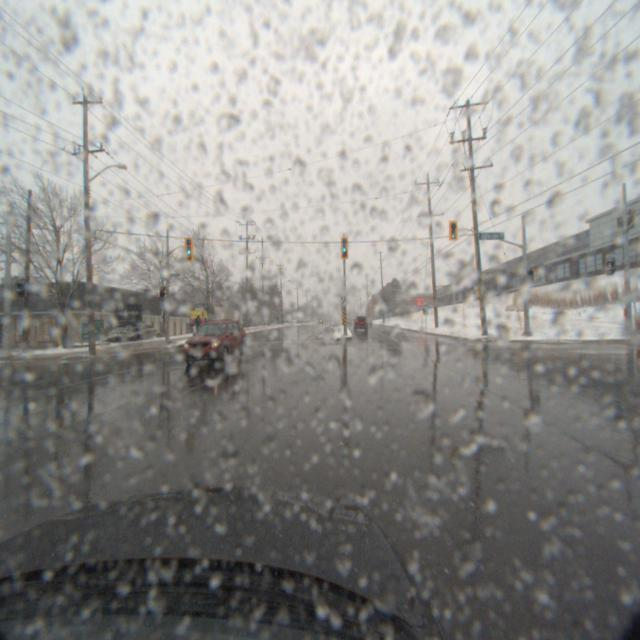Car: (178, 316, 250, 370)
